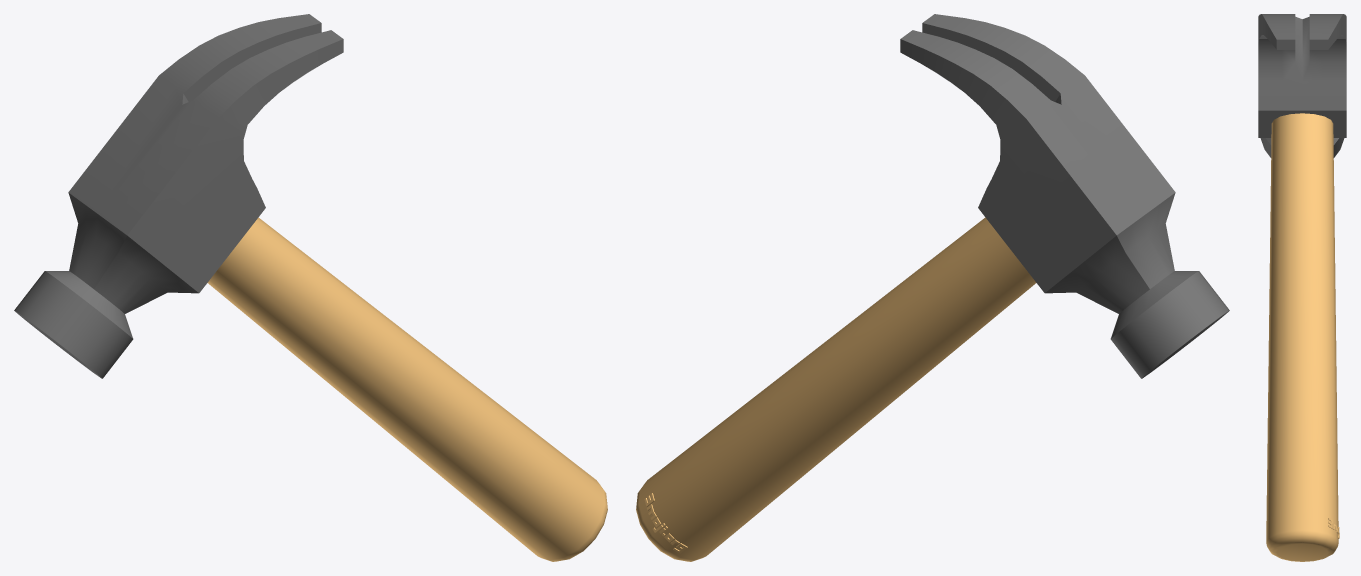
File: hammer.fbx
The picture shows the model from 3 angles, left to right: view 1: azimuth 30°, elevation 25°; view 2: azimuth 150°, elevation 25°; view 3: azimuth 270°, elevation 25°; orthographic projection. The views are drawn at different scales.
Visible parts, largest first — view 1: Cube.986; view 2: Cube.986; view 3: Cube.986.
Boxes of the visible parts, box(x1,y1,x2,y2) form: Cube.986: box(14, 14, 607, 561); Cube.986: box(636, 14, 1229, 561); Cube.986: box(1258, 14, 1346, 561).
Size of the model in its own units: 218 by 211 by 38.49.
1 material, 1 textured.
